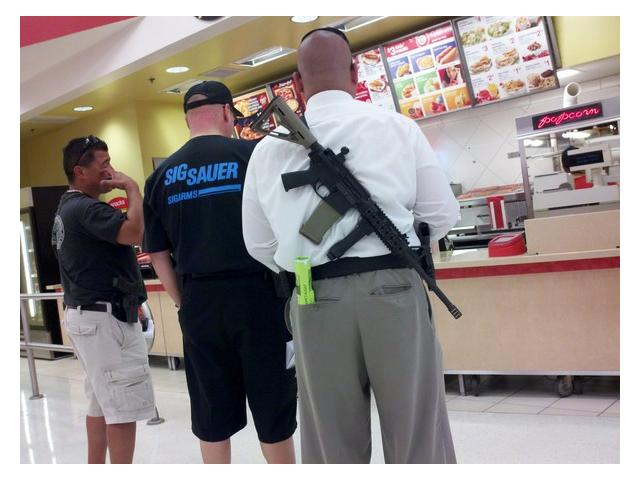rifle: (249, 95, 468, 323)
